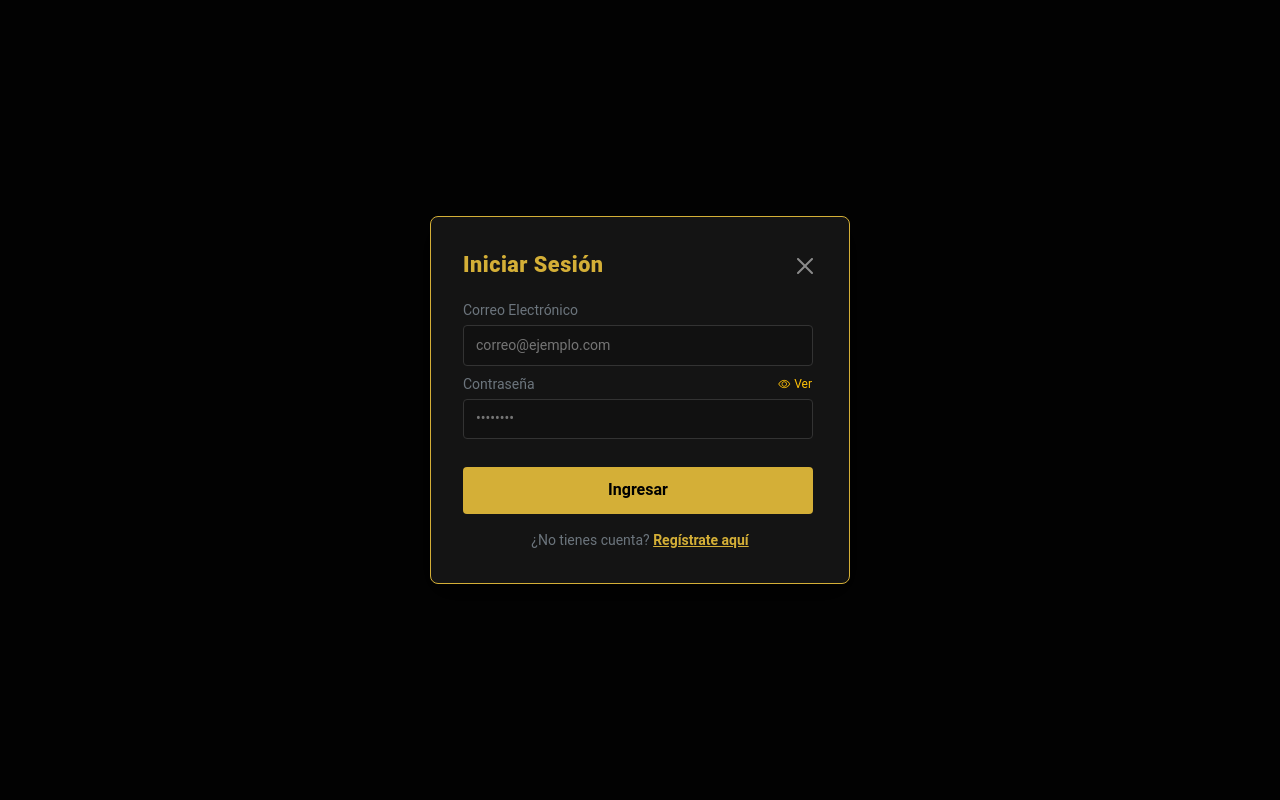
Test case: Componente AuthModal › Cambia entre la vista de Login y Registro limpiando mensajes de error
Click the button "Regístrate aquí" at point(701, 540), box [653,530,749,551]
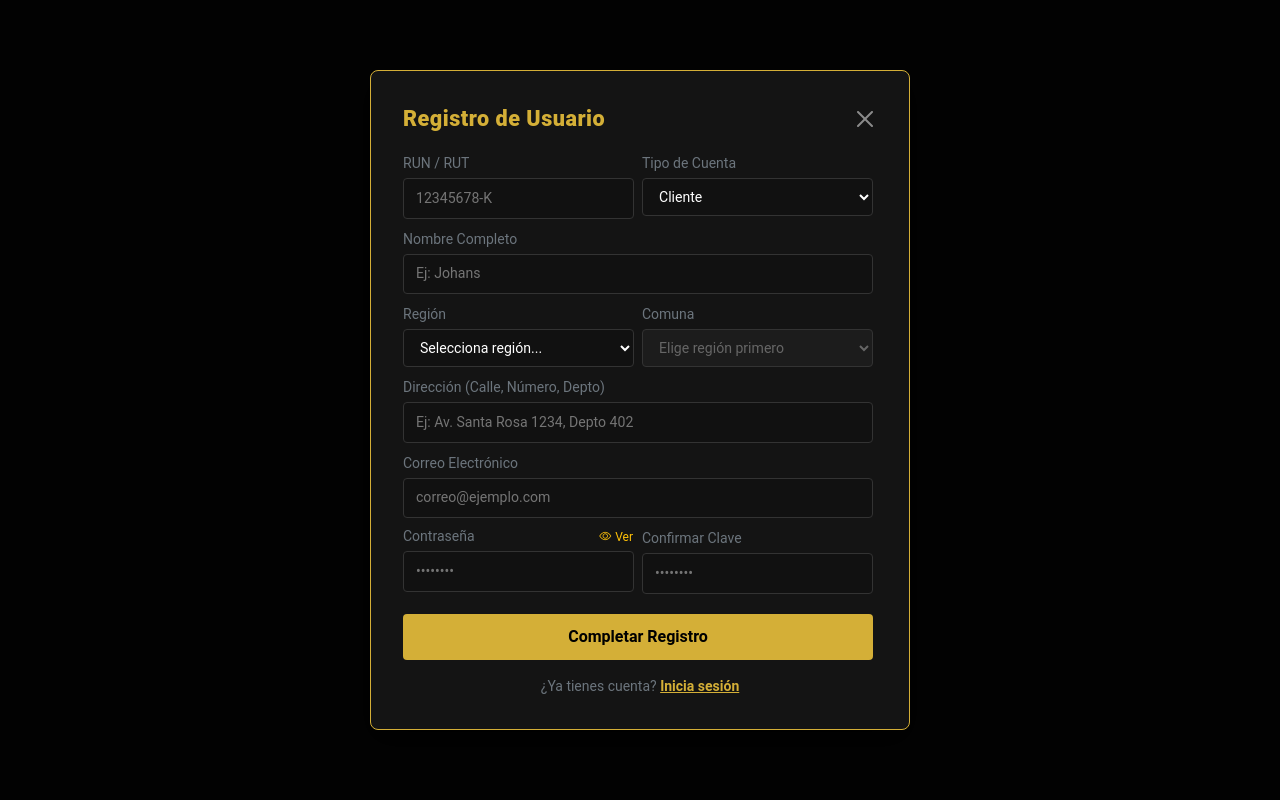
Expected: the heading "Registro de Usuario" is shown, [403,103,605,135]
Expected: the field with placeholder "12345678-K" is shown, [403,178,634,219]
Click the button "Inicia sesión" at point(700, 687), box [660,676,739,697]
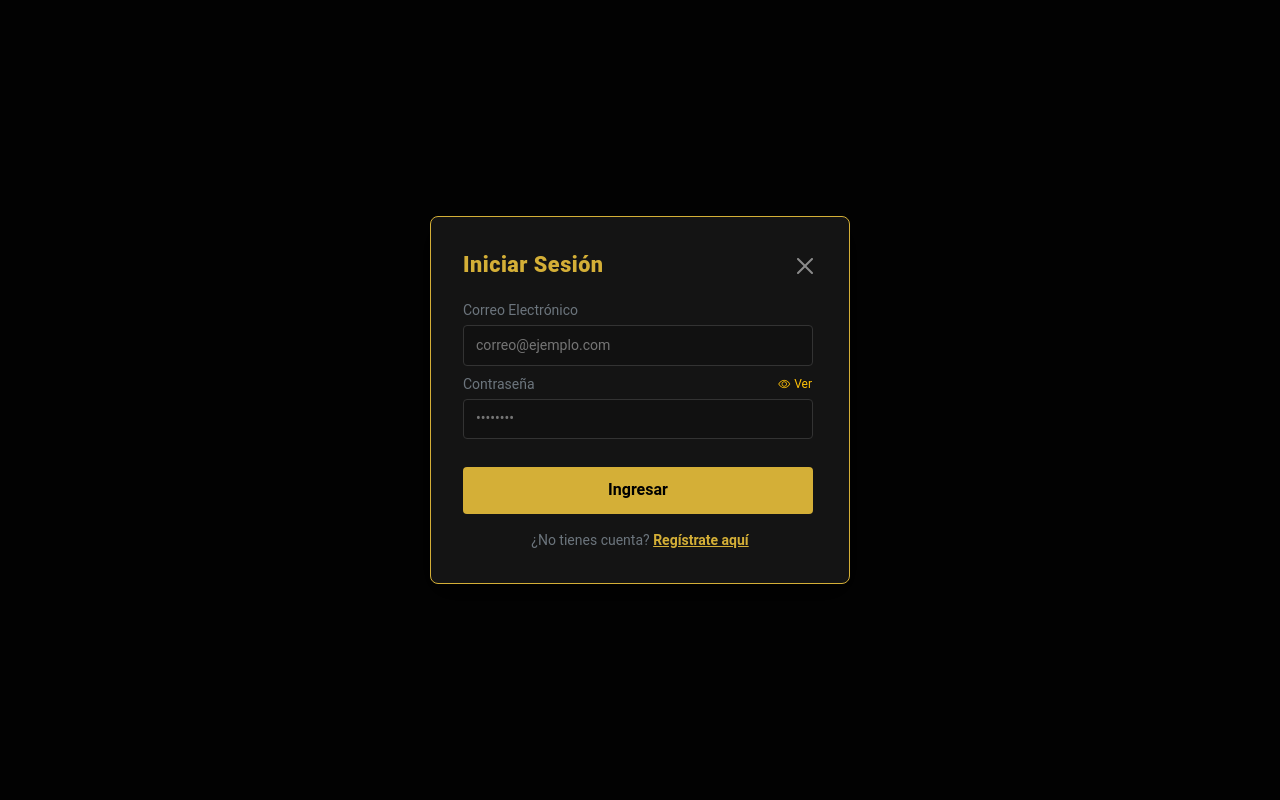
Expected: the heading "Iniciar Sesión" is shown, [463,249,604,282]
